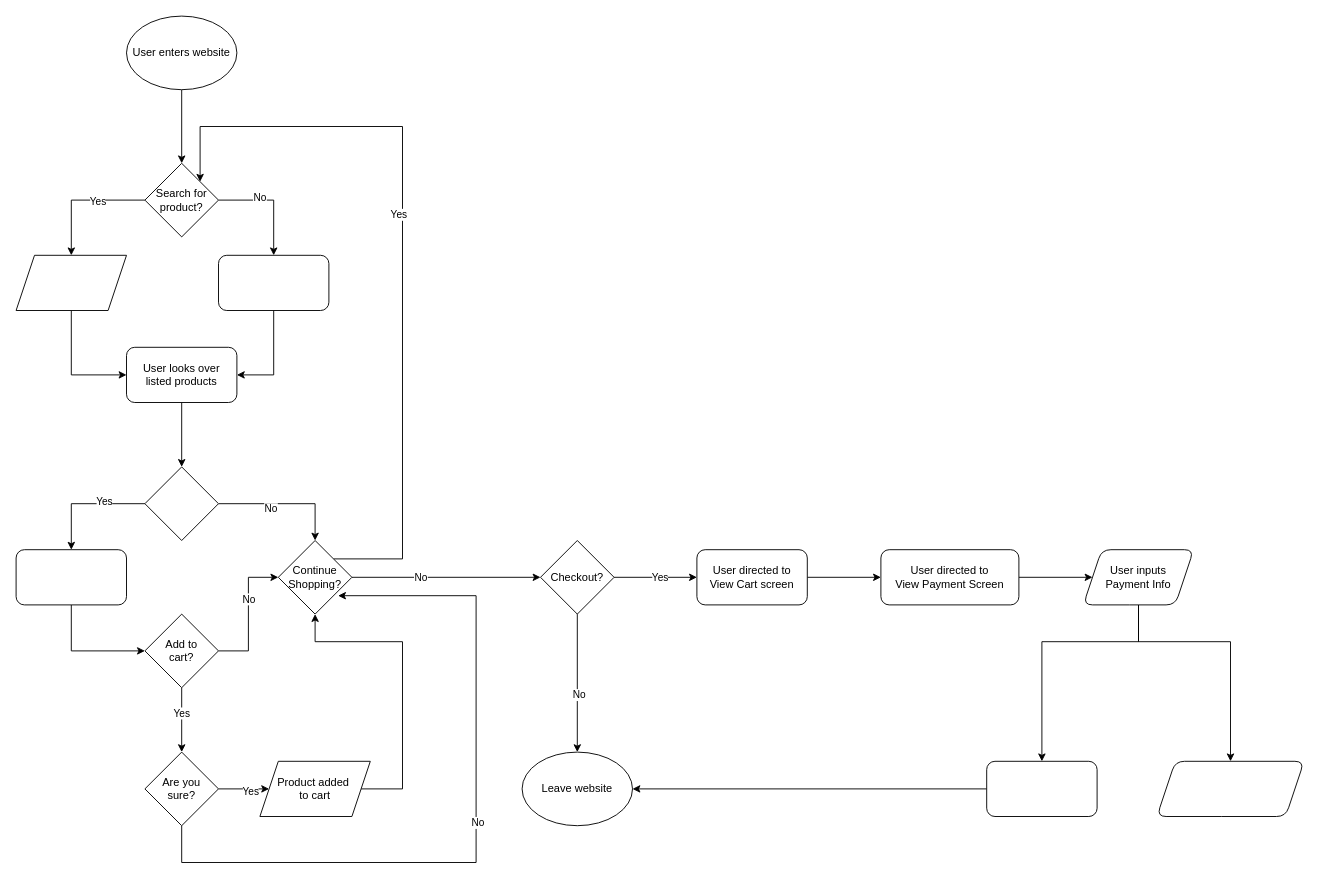
This 1320x886 diagram has some shape labels left out. The shapes that lost their labels are listed below. From the top down, each one's centre as x and y in pixels, then its label:
(70,282): User inputs product details
(273,282): User directed to home page
(181,503): Click this product?
(70,577): User directed to product webpage
(1041,788): User directed to Order Confirm Screen
(1230,788): Confirmation Email sent to User
